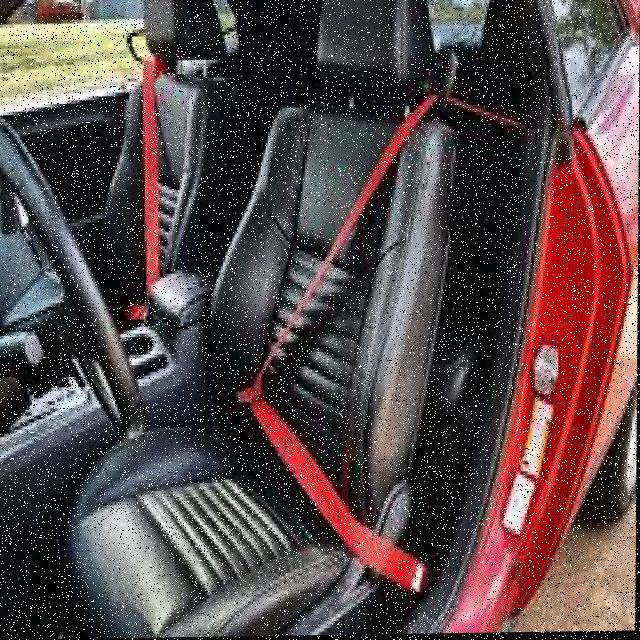seatbelt: (231, 70, 455, 604), (112, 44, 180, 338)
